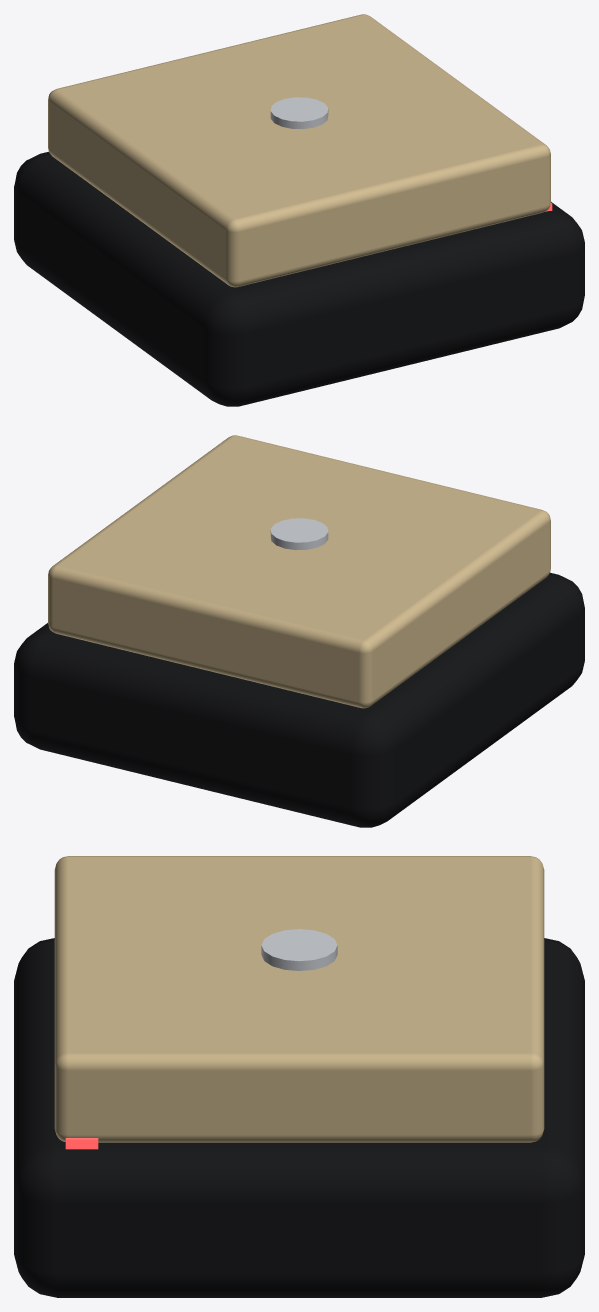
File: gps.glb
The picture shows the model from 3 angles, top to bottom: view 1: azimuth 30°, elevation 25°; view 2: azimuth 150°, elevation 25°; view 3: azimuth 270°, elevation 25°; orthographic projection. The views are drawn at different scales.
Visible parts, largest first — view 1: Ceramic patch, GPS housing, Feed point; view 2: Ceramic patch, GPS housing, Feed point; view 3: Ceramic patch, GPS housing, Feed point.
Part boxes in pixels (left/top/right/bottom): Ceramic patch: left=48, top=14, right=550, bottom=287; GPS housing: left=14, top=151, right=584, bottom=406; Feed point: left=270, top=97, right=328, bottom=129; Ceramic patch: left=48, top=435, right=550, bottom=708; GPS housing: left=14, top=572, right=584, bottom=827; Feed point: left=270, top=518, right=328, bottom=550; Ceramic patch: left=54, top=856, right=544, bottom=1142; GPS housing: left=14, top=938, right=584, bottom=1297; Feed point: left=261, top=929, right=337, bottom=970.
Bounding box in the file's own units: 0.021 × 0.01 × 0.021.
